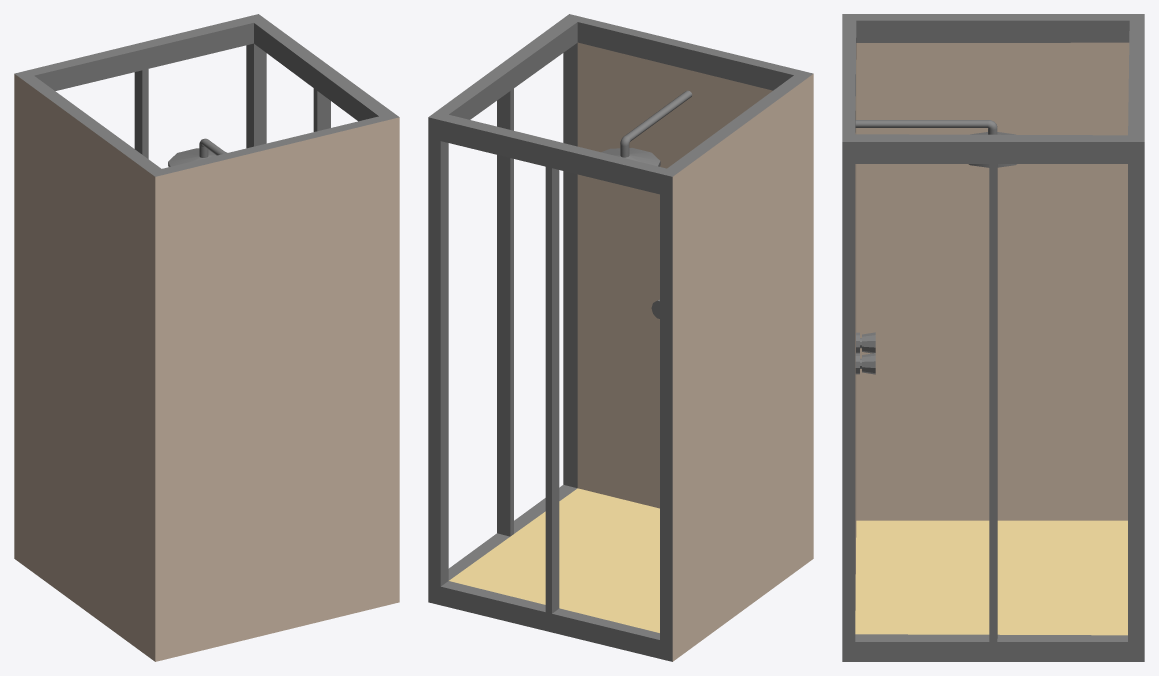
Rendered from Shower.obj.
3 renders of one model, left to right at view 1: azimuth 30°, elevation 25°; view 2: azimuth 150°, elevation 25°; view 3: azimuth 270°, elevation 25°, orthographic. The views are drawn at different scales.
Parts seen in each view (by area): view 1: Shower; view 2: Shower; view 3: Shower.
Part boxes in pixels (x1=…): Shower: x1=14, y1=14, x2=399, y2=661; Shower: x1=428, y1=14, x2=813, y2=661; Shower: x1=842, y1=14, x2=1144, y2=661.
Size of the model in its own units: 184 by 349 by 184.
